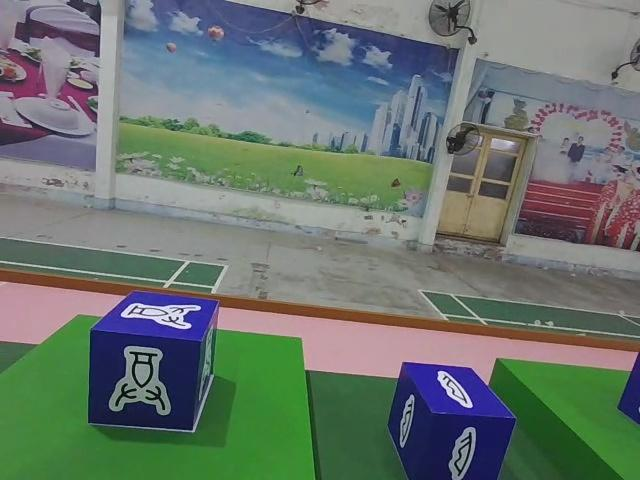R2 Real Blue: (89, 292, 219, 430), (388, 360, 519, 480)
